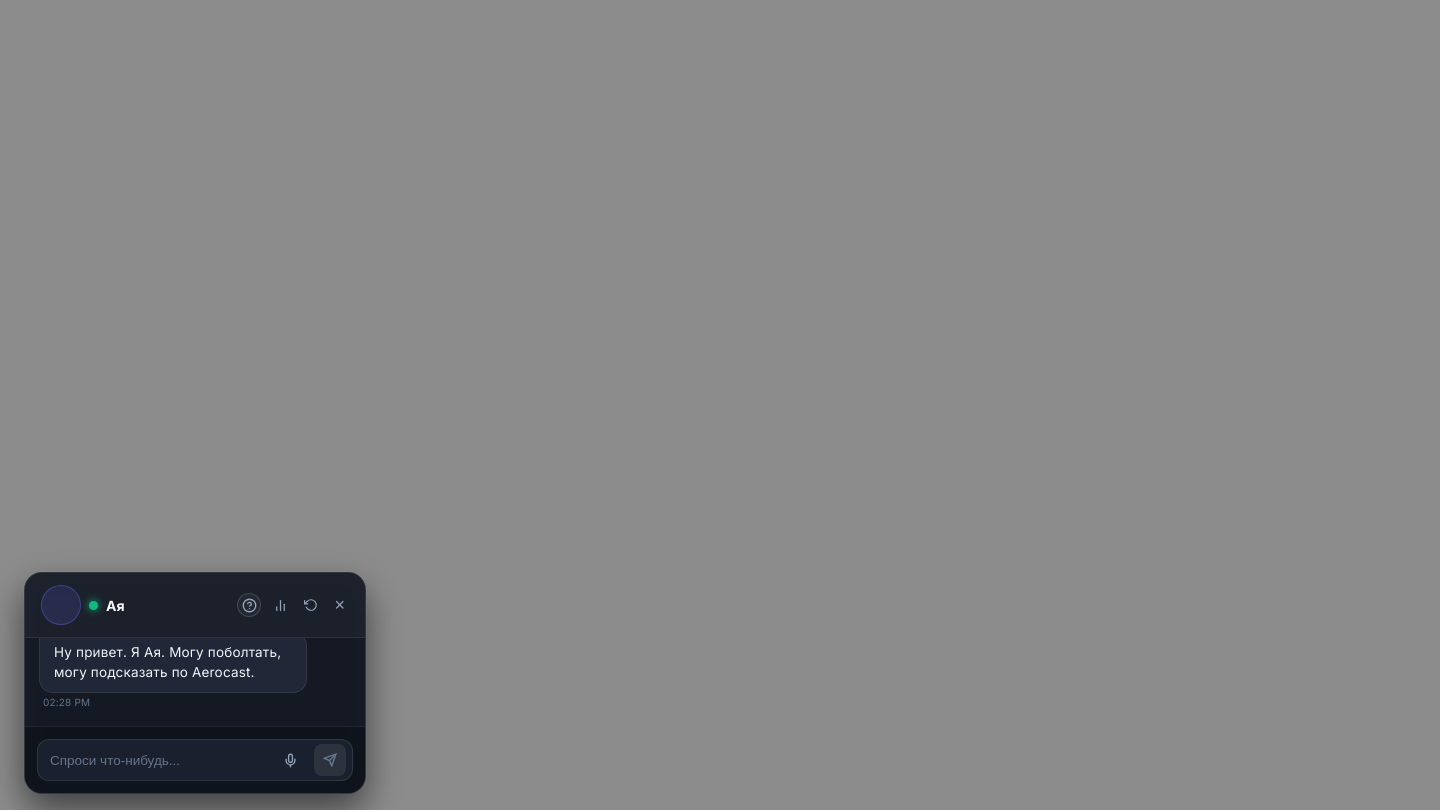
AiChatModalCoverage › рендерит форматированный текст сообщений с **жирным** и *курсивом*
(page scrolled)
In the field with placeholder "Спроси что-нибудь...": (158, 760) [50,744,266,776], type "привет"
Then press Enter
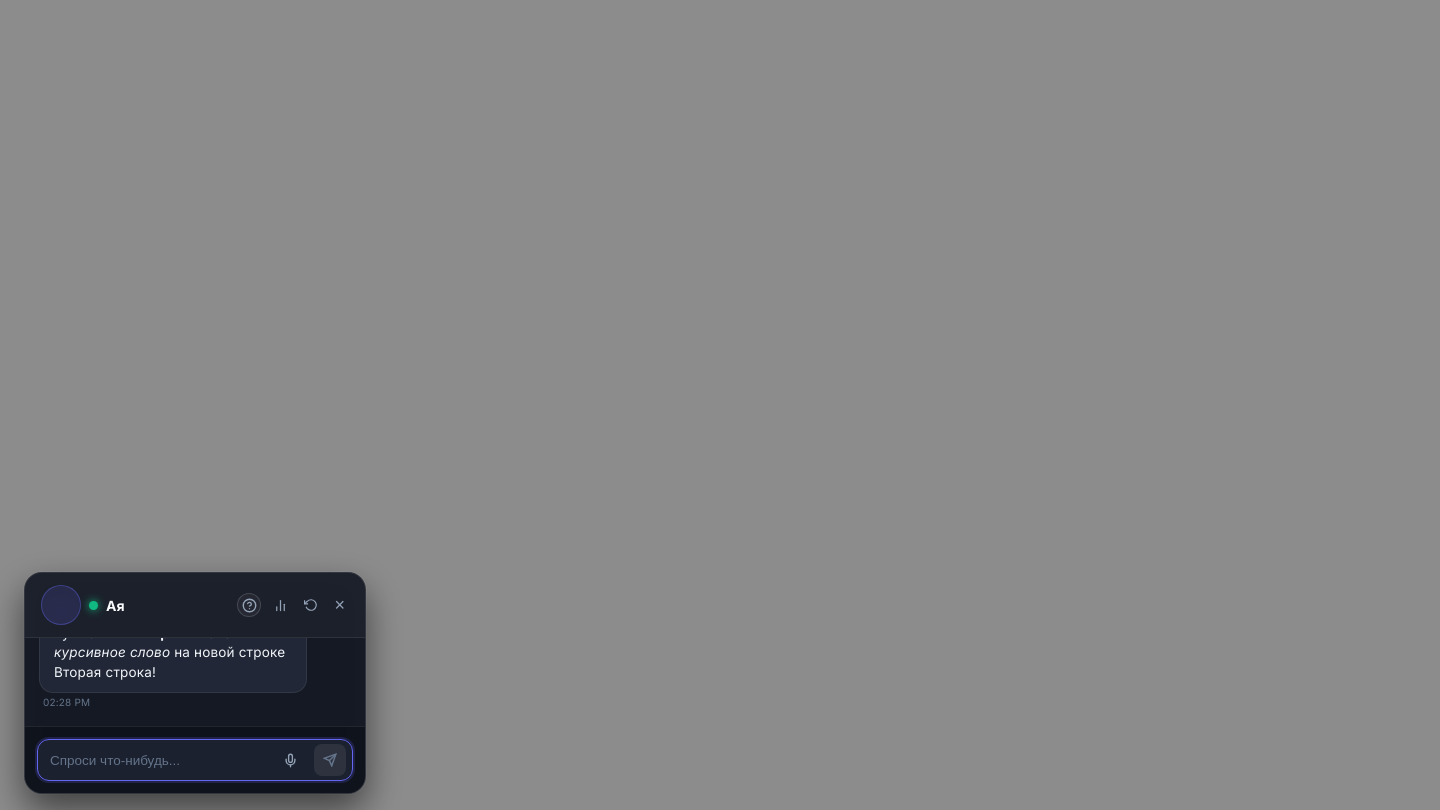
Now the text "курсивное слово" is shown, box [54,644,170,660]
